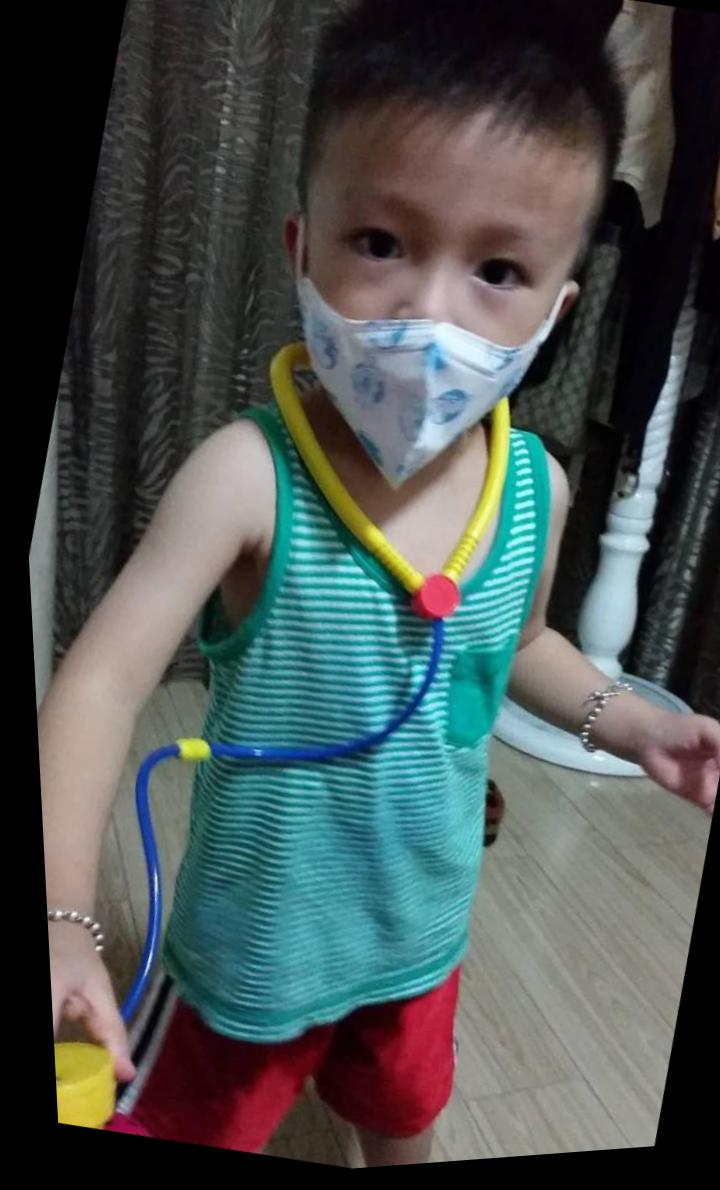WRONG: (238, 151, 588, 506)
